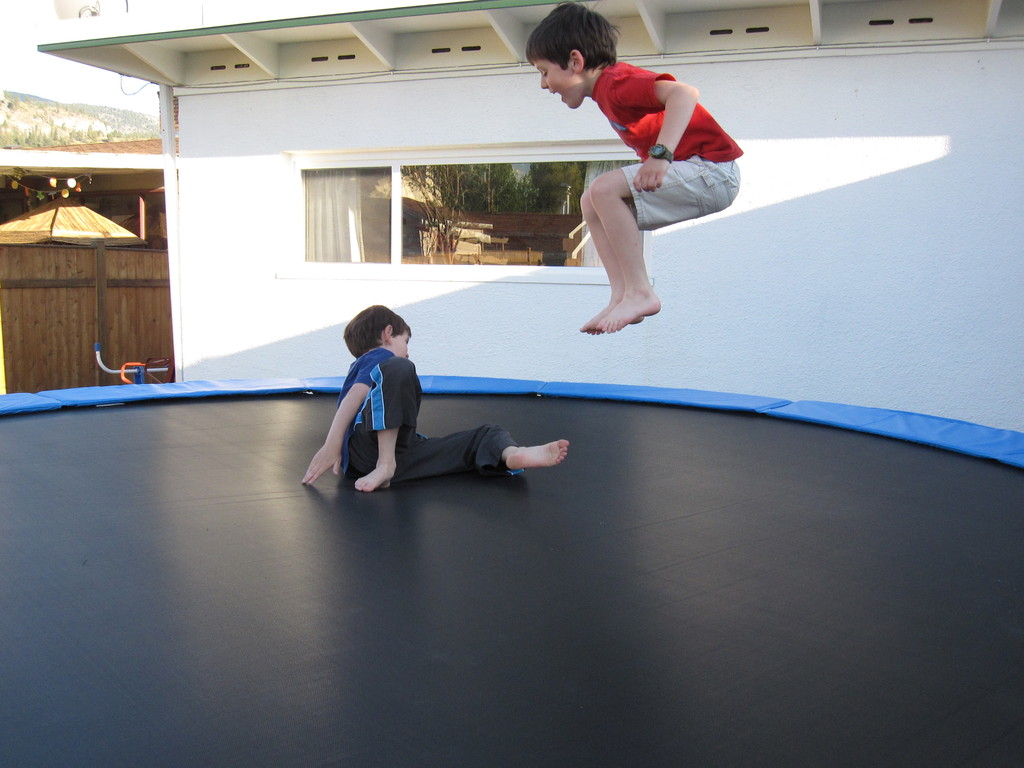face: (528, 47, 584, 106)
